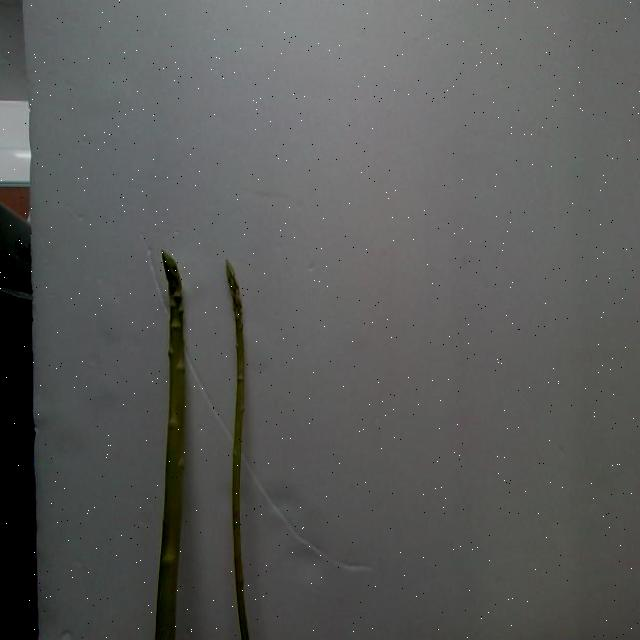aspargus: (152, 255, 190, 640), (224, 261, 254, 640)
